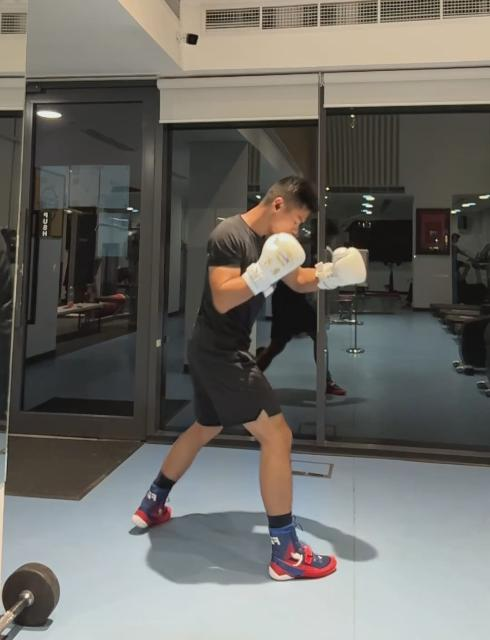punch: (131, 171, 369, 587)
